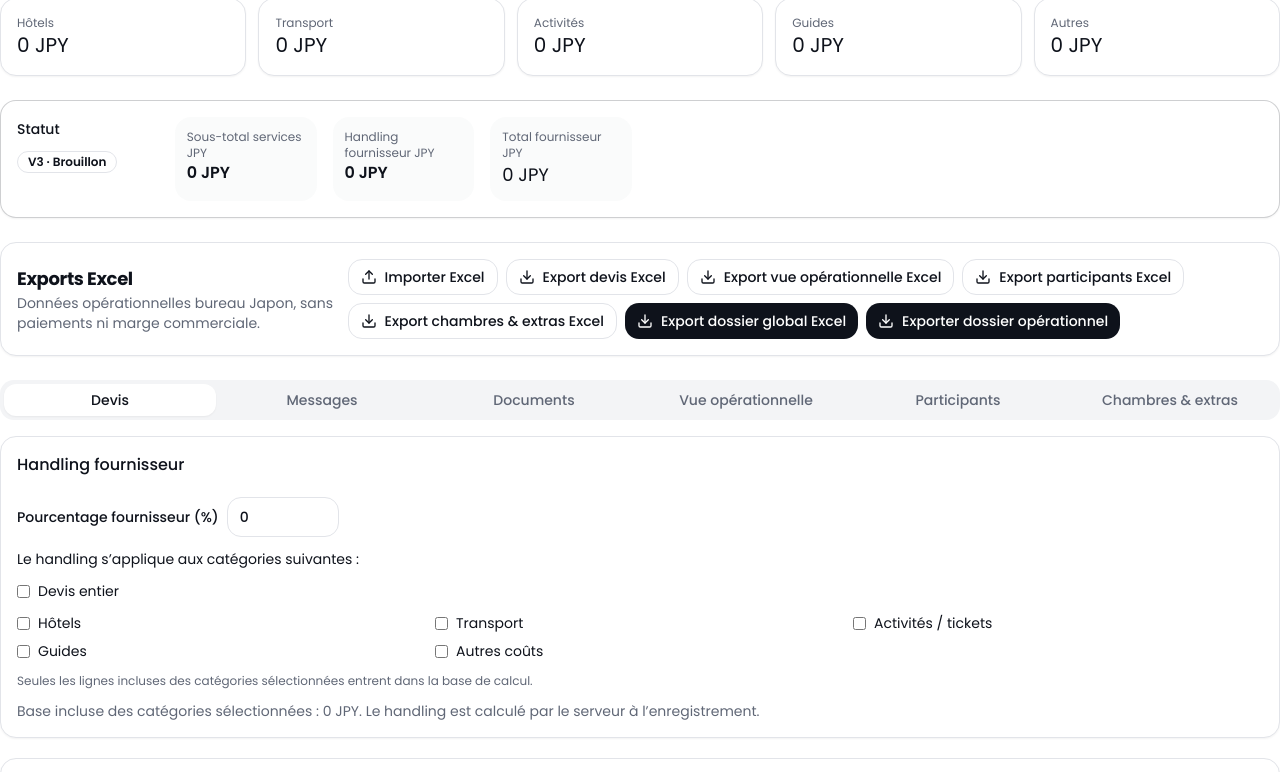
existing Messages/Documents backend integration › surfaces trip_message_reads query errors without displaying a false empty result
(page scrolled)
Press the mouse on the tab "Messages": x=322, y=400 x1=216 y1=384 x2=428 y2=416
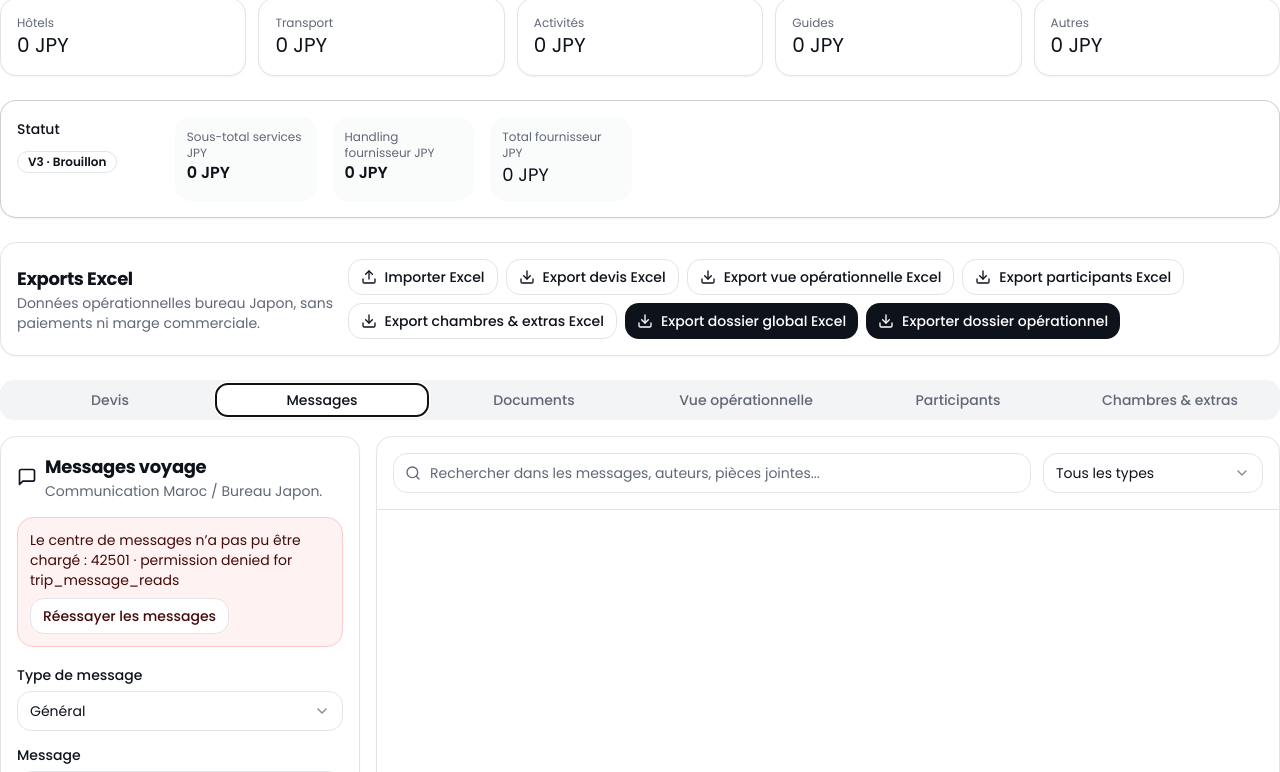
Result: the message shows "42501" at x1=30 y1=550 x2=292 y2=590
Result: the message shows "trip_message_reads" at x1=30 y1=550 x2=292 y2=590
